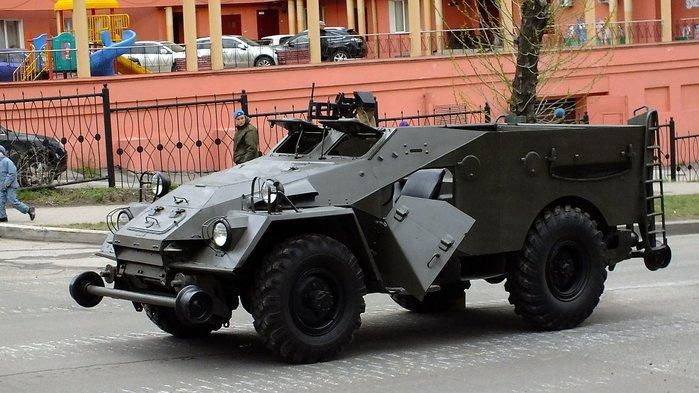MIL_IFV: (68, 91, 676, 364)
